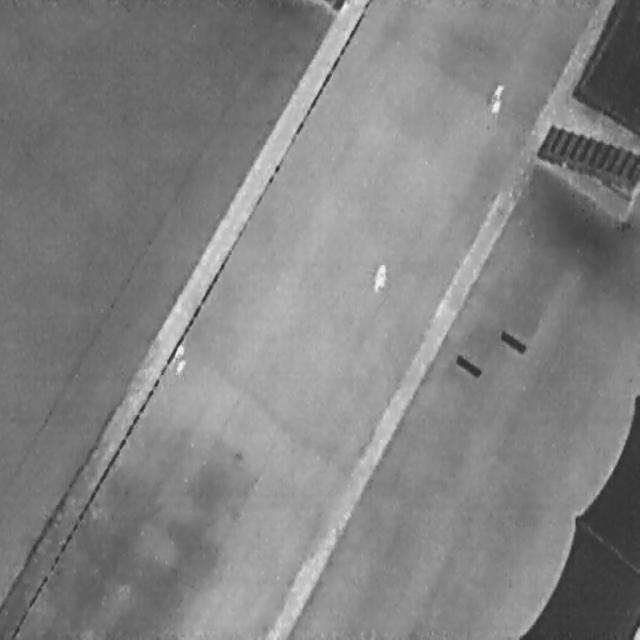Person: (369, 256, 389, 296), (489, 78, 504, 114), (171, 343, 187, 375)
